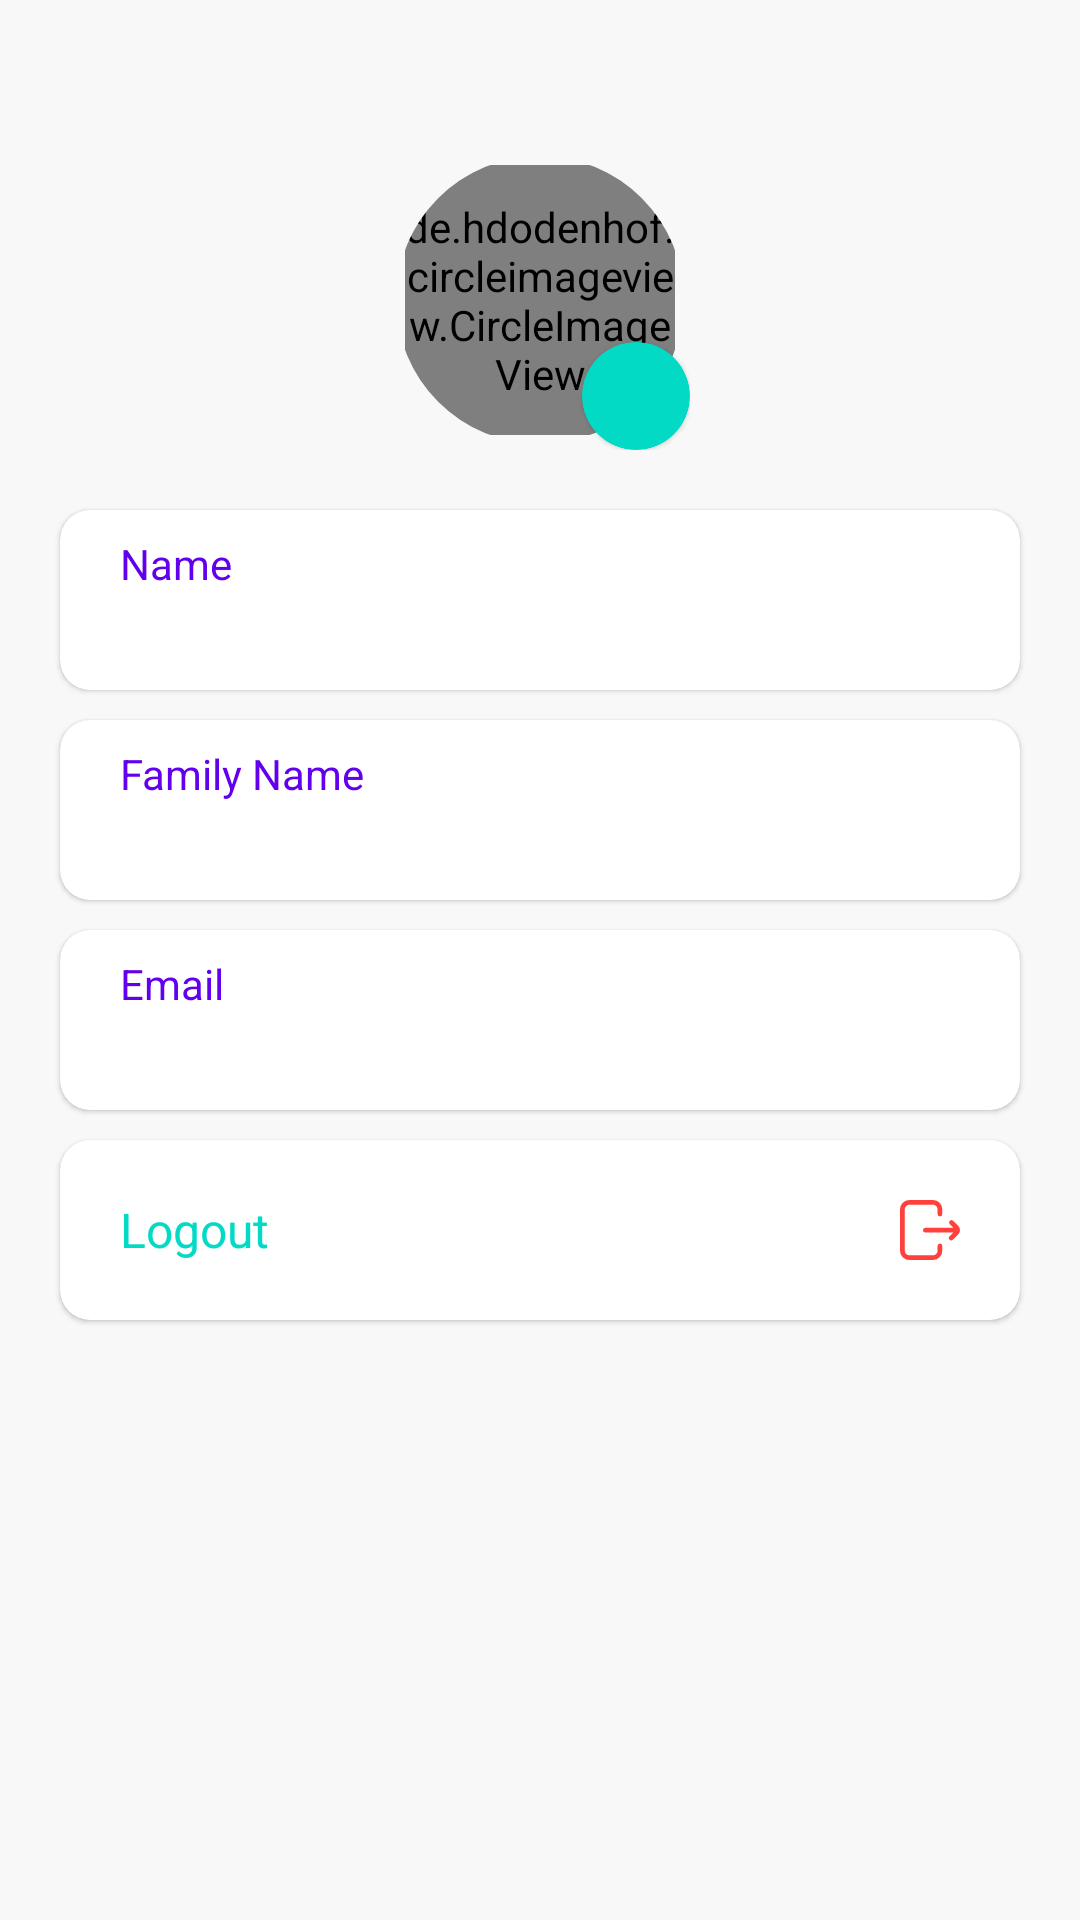

Locate icon controls on the screen. Image size 1080x1920, boxes as (x1, y1, x2, y2).
exit: (900, 1200, 960, 1260)
